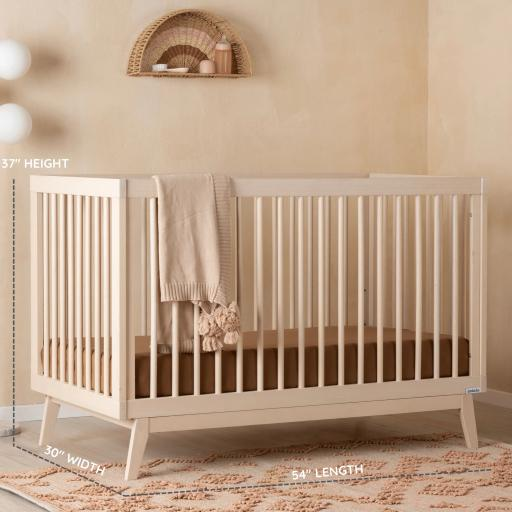crib: (26, 174, 488, 480)
